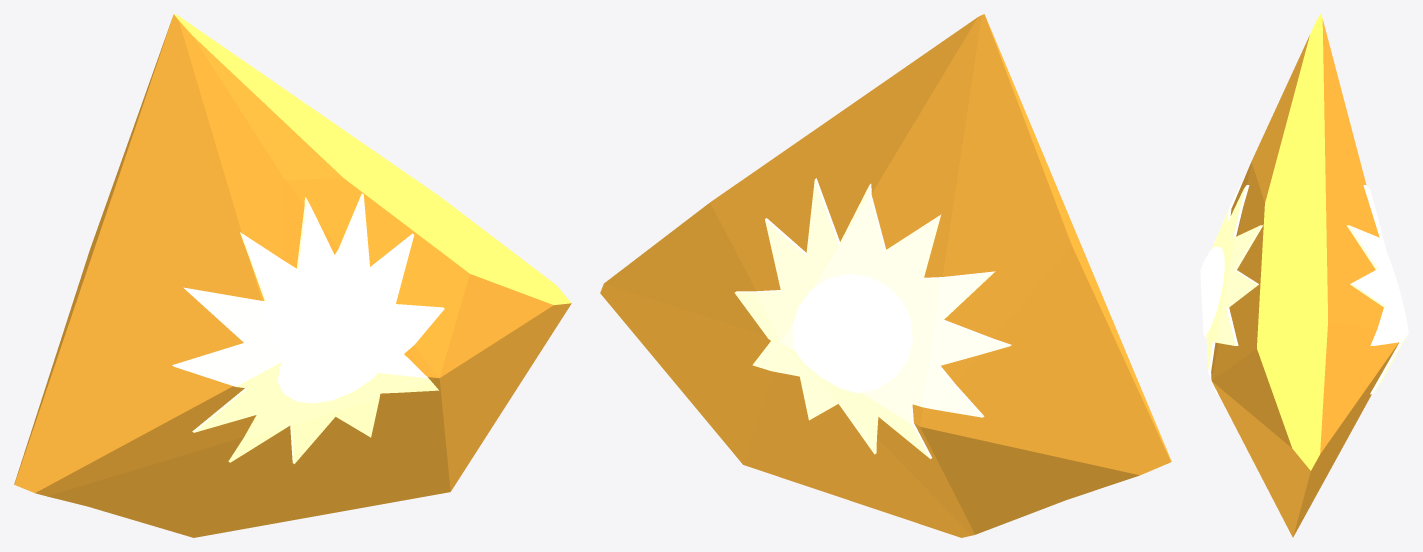
Rendered from sol_fragment.glb.
The picture shows the model from 3 angles, left to right: view 1: azimuth 30°, elevation 25°; view 2: azimuth 150°, elevation 25°; view 3: azimuth 270°, elevation 25°; orthographic projection. The views are drawn at different scales.
Parts seen in each view (by area): view 1: sol_fragment; view 2: sol_fragment; view 3: sol_fragment.
Part boxes in pixels (x1,y1,x2,y2): sol_fragment: (14,14,571,537); sol_fragment: (600,14,1171,537); sol_fragment: (1200,14,1408,537).
Bounding box in the file's own units: 0.18 × 0.1612 × 0.0718.
